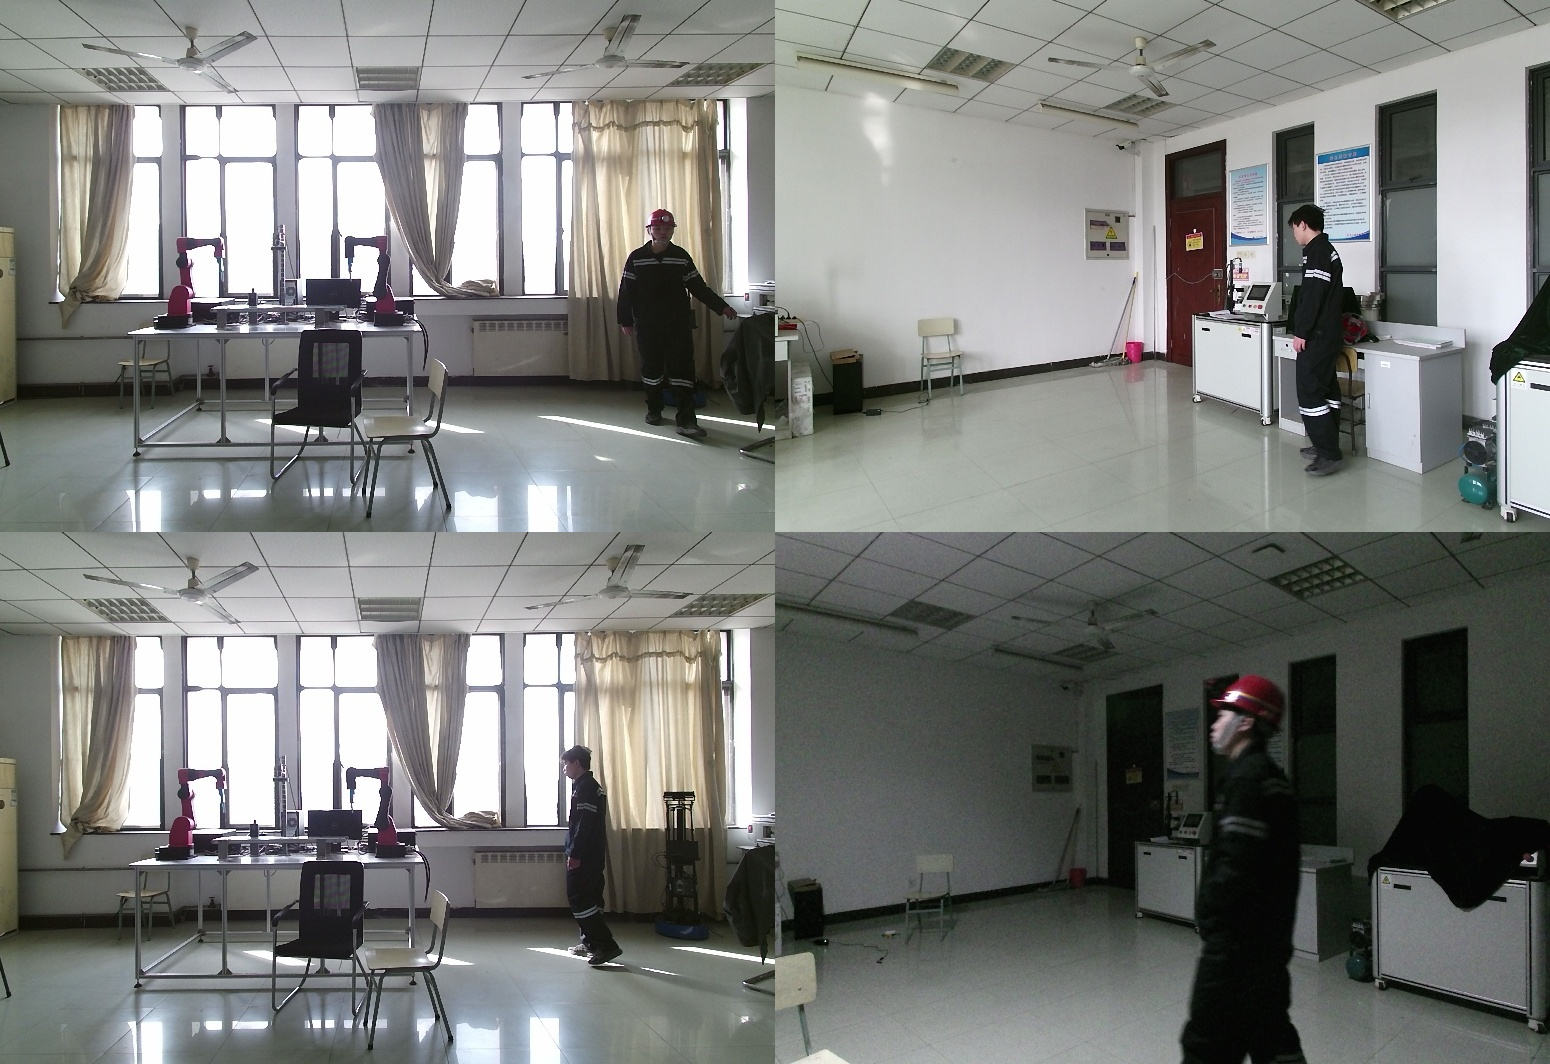person: (1183, 670, 1330, 1064), (620, 209, 725, 433), (1295, 211, 1384, 475), (561, 745, 622, 966)
